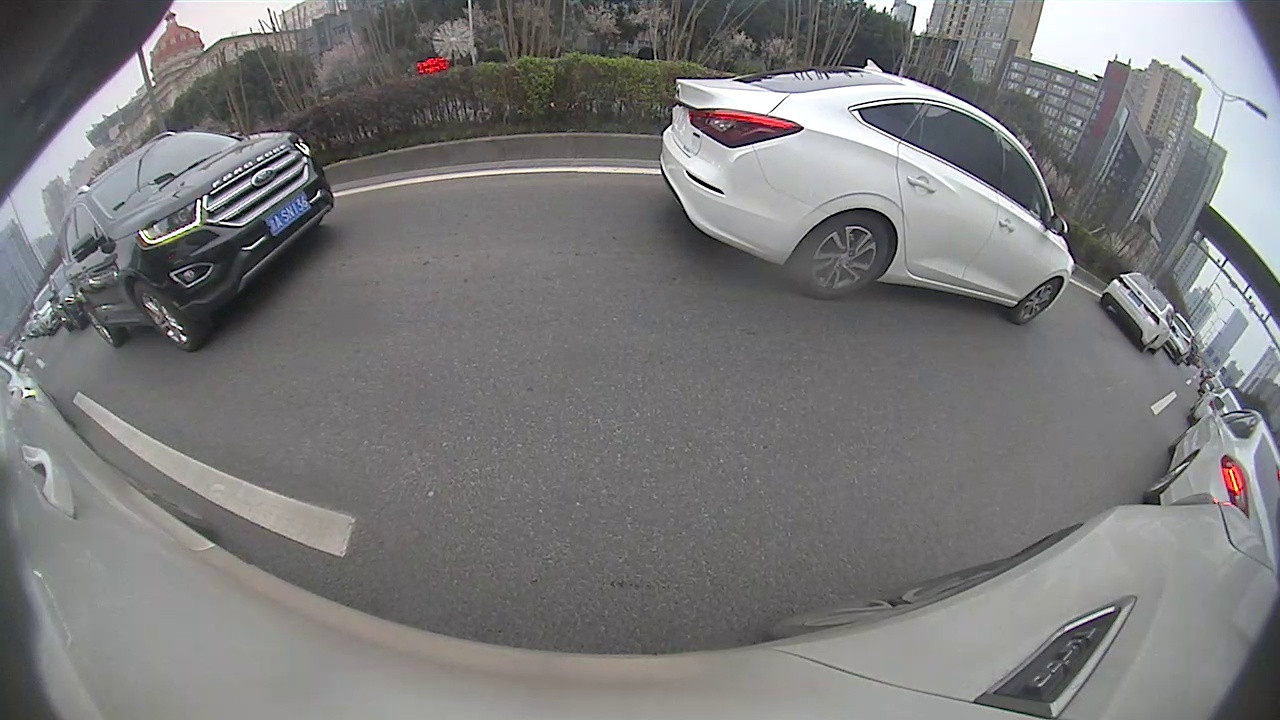car: (657, 53, 1078, 324), (62, 131, 327, 352), (1143, 398, 1278, 577), (1100, 269, 1176, 354)
front: (130, 283, 190, 350), (1014, 284, 1073, 322)
rear: (810, 216, 885, 297), (84, 308, 116, 346)
